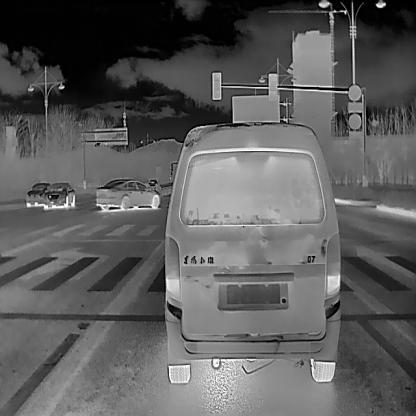car: (164, 120, 341, 383), (95, 176, 160, 210), (46, 180, 75, 208), (25, 183, 46, 206), (148, 179, 158, 189)
